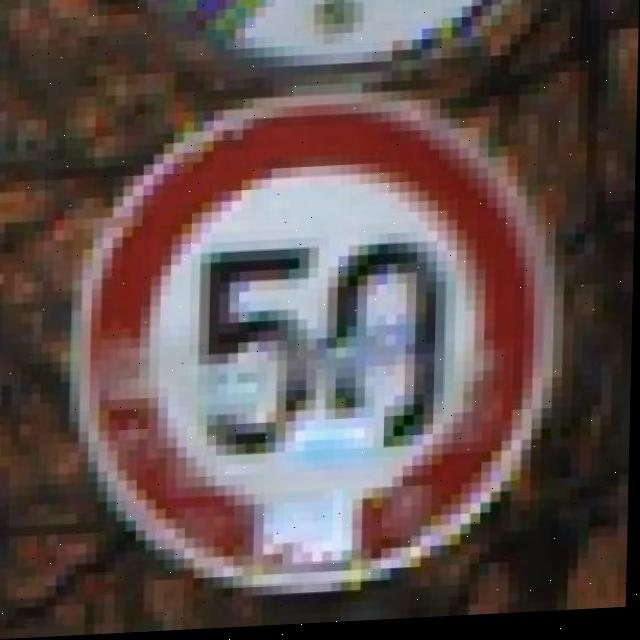Speed limit 50: (74, 87, 558, 605)
